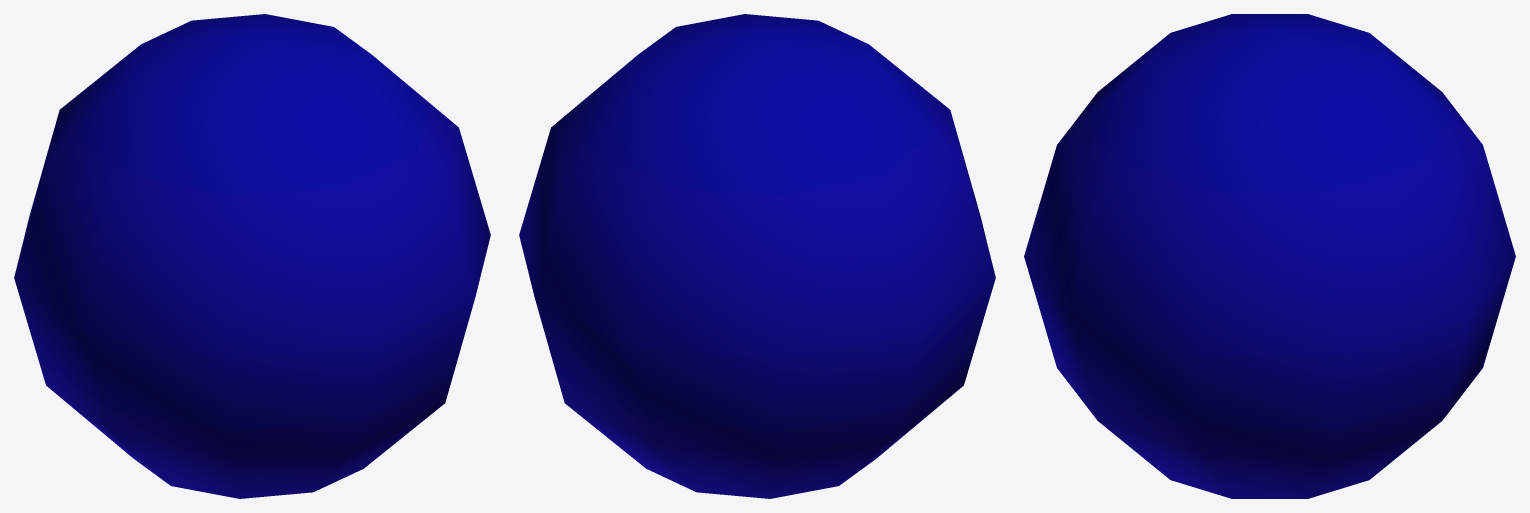
Rendered from effect_ball.glb.
The picture shows the model from 3 angles, left to right: view 1: azimuth 30°, elevation 25°; view 2: azimuth 150°, elevation 25°; view 3: azimuth 270°, elevation 25°; orthographic projection.
Visible parts, largest first — view 1: Node_00_21c288; view 2: Node_00_21c288; view 3: Node_00_21c288.
Boxes of the visible parts, left/top/right/bottom form: Node_00_21c288: left=14, top=14, right=490, bottom=498; Node_00_21c288: left=519, top=14, right=995, bottom=498; Node_00_21c288: left=1024, top=14, right=1515, bottom=498.
Size of the model in its own units: 1.71 by 1.8 by 1.8.
1 material, 1 textured.
